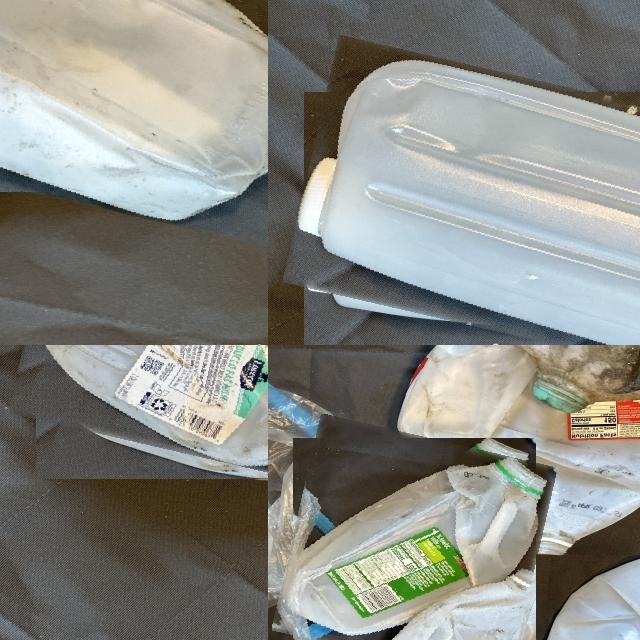milk-jug: (292, 63, 640, 345), (0, 0, 268, 220), (282, 426, 546, 640), (401, 345, 640, 551), (21, 345, 268, 508)
